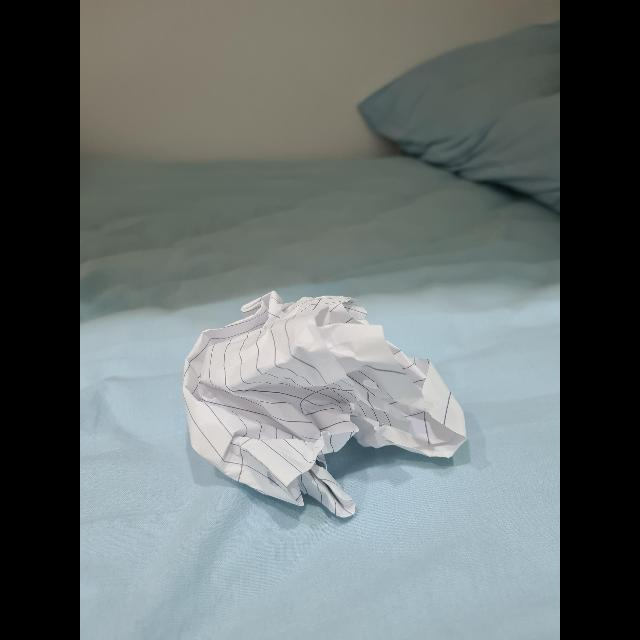scrap_paper: (187, 294, 476, 516)
